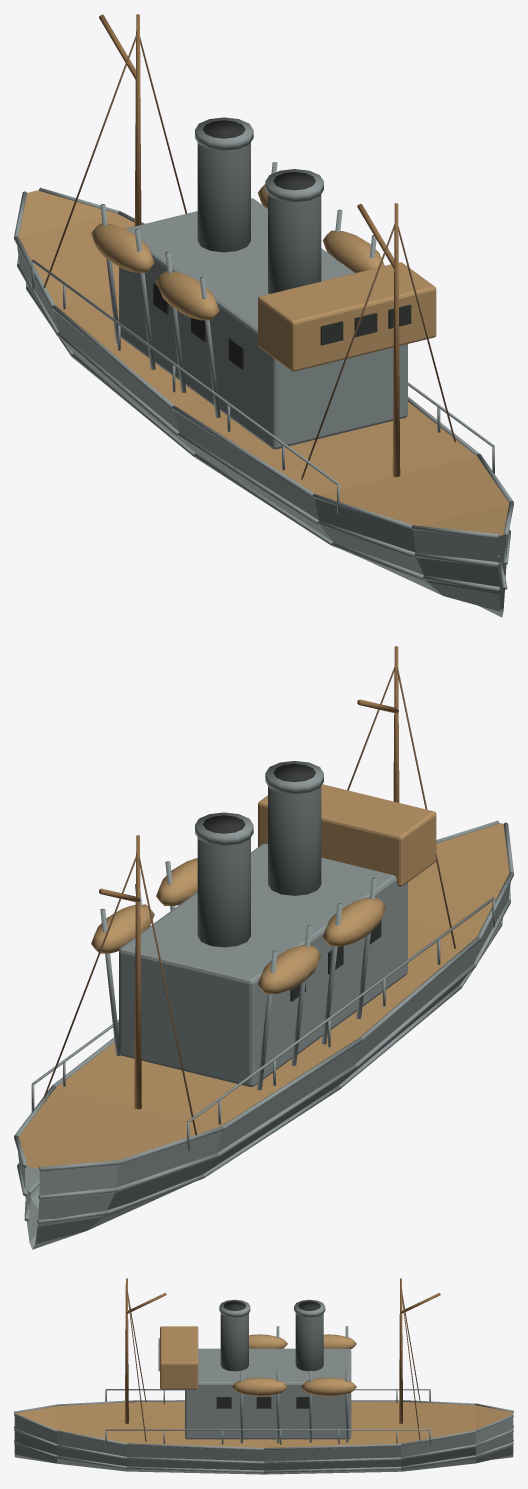
Rendered from steam-transport.glb.
3 views of the same model, one above another, from view 1: azimuth 30°, elevation 25°; view 2: azimuth 150°, elevation 25°; view 3: azimuth 270°, elevation 25° (orthographic). The views are drawn at different scales.
Visible parts, largest first — view 1: unit_root_geometry; view 2: unit_root_geometry; view 3: unit_root_geometry.
Part boxes in pixels (x1,y1,x2,y2): unit_root_geometry: (14,14,513,617); unit_root_geometry: (14,646,513,1249); unit_root_geometry: (14,1278,513,1474).
Size of the model in its own units: 1.49 by 2.52 by 6.02.
